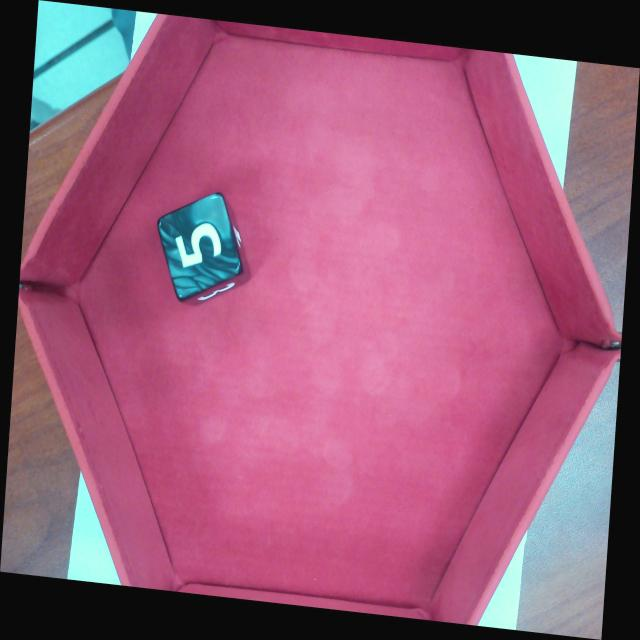dice: (157, 189, 248, 304)
